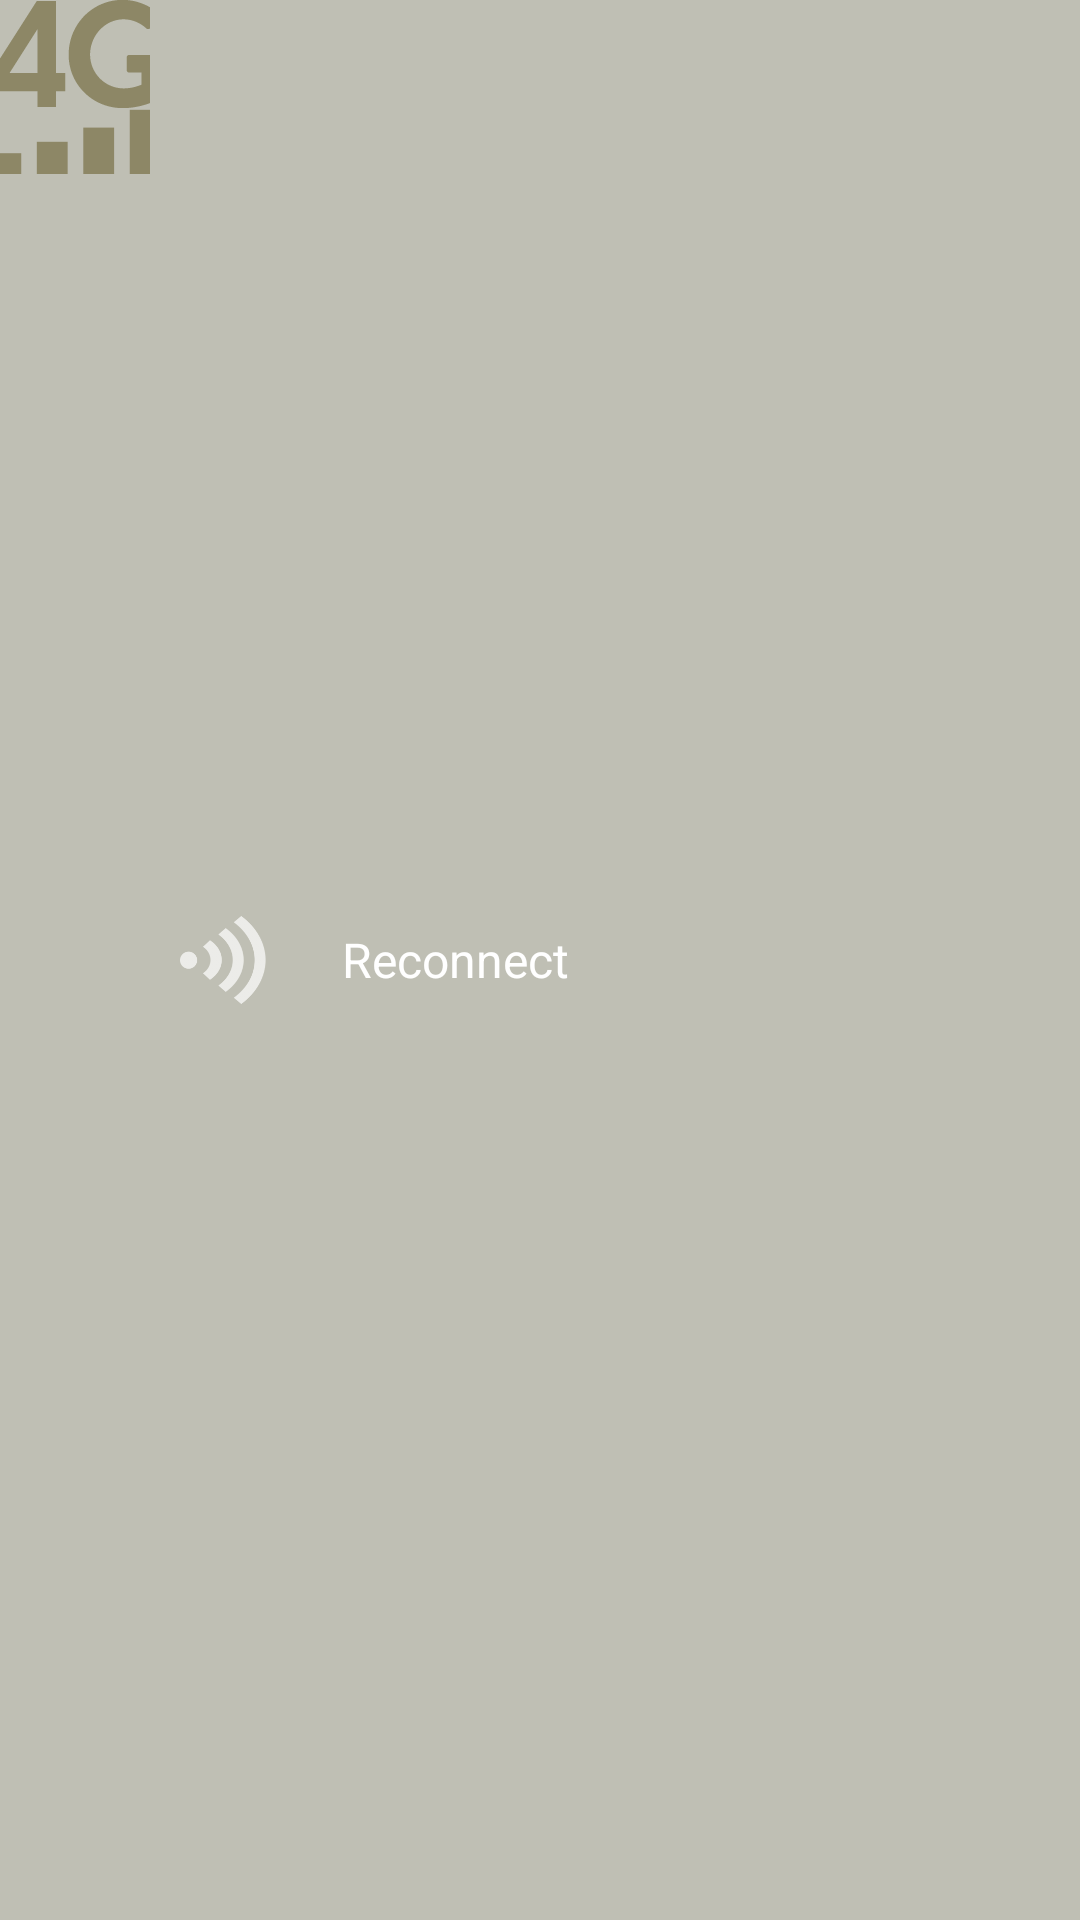

Where icons sit on this 1080w x 1920h app screen, as {"left": x1, "top": y1, "right": x2, "bottom": y2}:
network operator: {"left": 0, "top": 0, "right": 150, "bottom": 174}
wifi signal: {"left": 180, "top": 916, "right": 266, "bottom": 1004}
